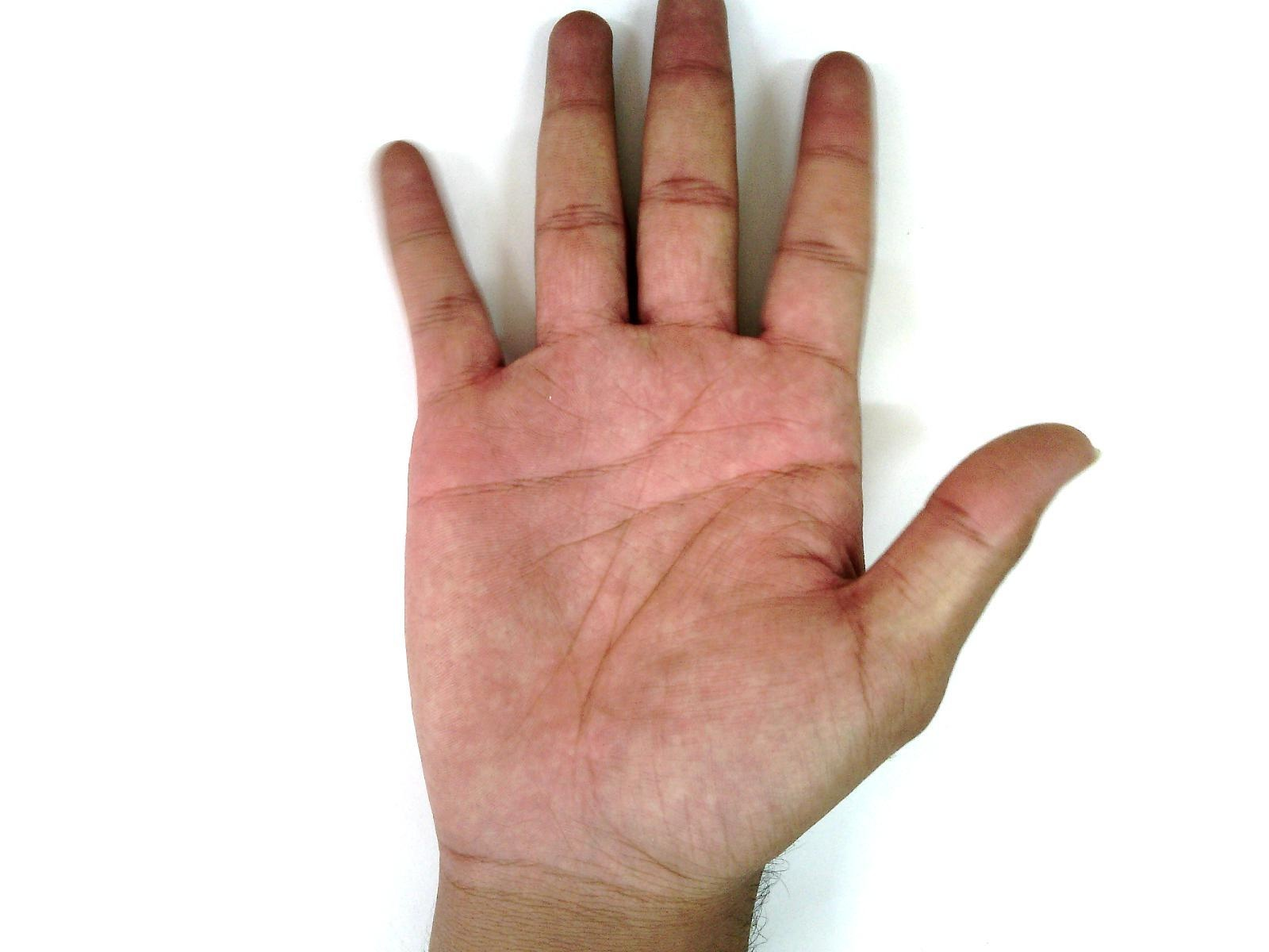open_palm: (369, 4, 1102, 892)
